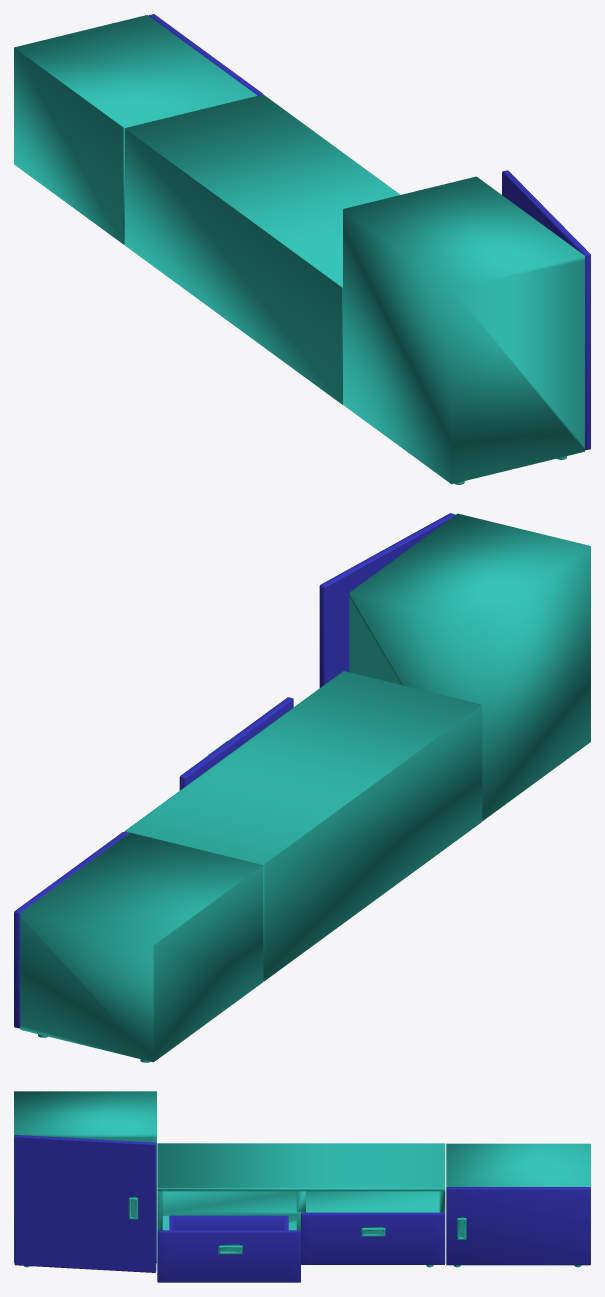
Rendered from armario cozinha.fbx.
3 renders of one model, top to bottom at view 1: azimuth 30°, elevation 25°; view 2: azimuth 150°, elevation 25°; view 3: azimuth 270°, elevation 25°, orthographic. The views are drawn at different scales.
Visible parts, largest first — view 1: TV Furniture; view 2: TV Furniture; view 3: TV Furniture.
Boxes of the visible parts, x1,y1,x2,y2 form: TV Furniture: [14, 14, 590, 484]; TV Furniture: [14, 513, 590, 1062]; TV Furniture: [14, 1091, 590, 1282].
Bounding box in the file's own units: 2607 × 2439 × 9388.
